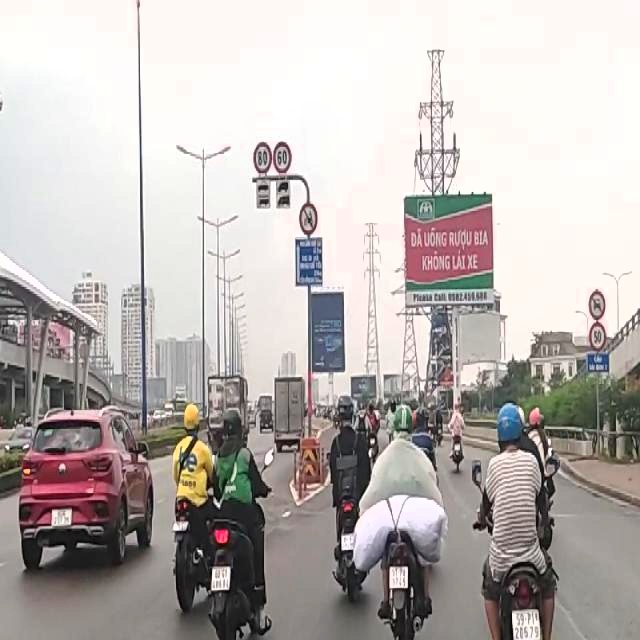P.103a: (589, 286, 605, 320)
P.104: (298, 201, 320, 234)
P.127*50: (589, 323, 605, 354)
P.127*60: (274, 142, 290, 172)
P.127*80: (255, 141, 271, 172)
